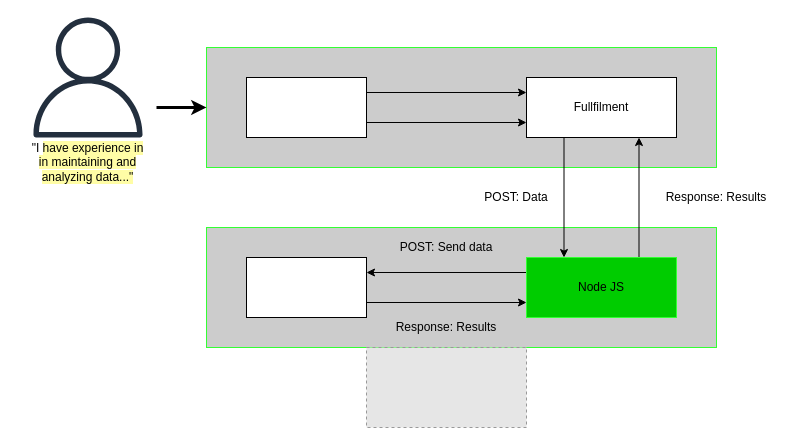
This 803x445 diagram has some shape labels left out. Grey dashed boxes stand in for pictures. Each missing label, with the centre of its shape:
"Head AI API" belongs at point (306, 287).
"Intent" belongs at point (306, 107).
